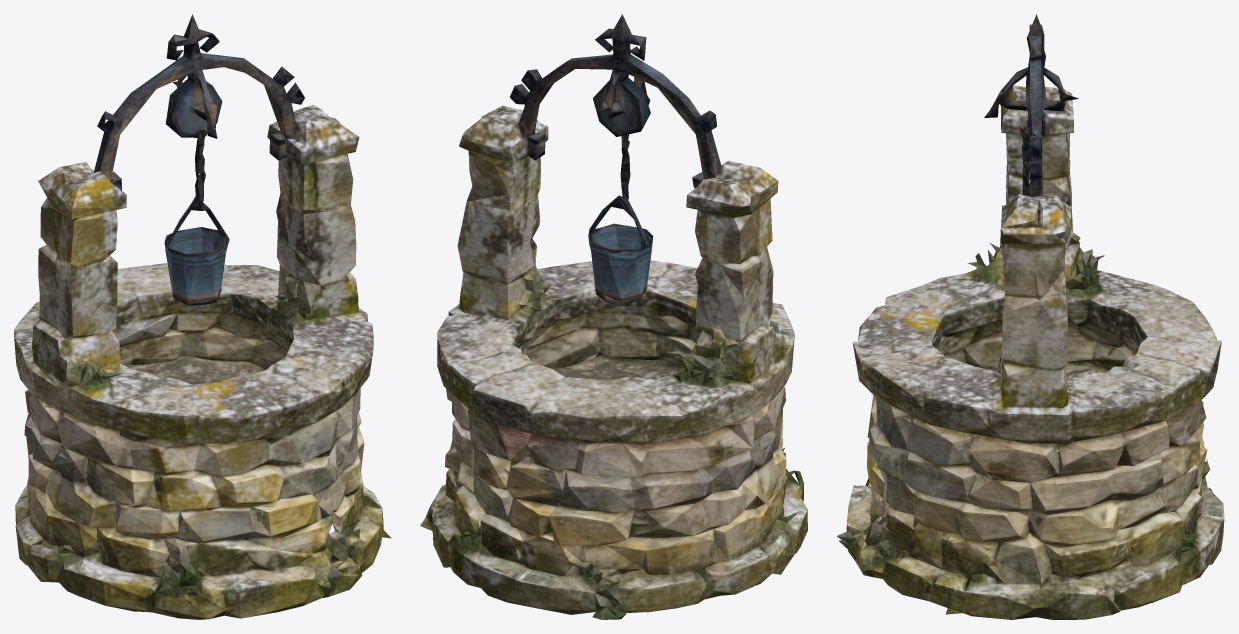
The model's file is it_well.obj.
3 views of the same model, side by side, from view 1: azimuth 30°, elevation 25°; view 2: azimuth 150°, elevation 25°; view 3: azimuth 270°, elevation 25° (orthographic).
Visible parts, largest first — view 1: it_well; view 2: it_well; view 3: it_well.
Boxes of the visible parts, bbox=[...] form: it_well: bbox=[14, 14, 391, 619]; it_well: bbox=[420, 14, 807, 619]; it_well: bbox=[837, 14, 1224, 619].
Size of the model in its own units: 1.81 by 2.8 by 1.86.
1 material, 1 textured.
